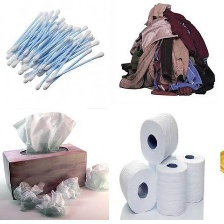tissue: (8, 108, 79, 156), (115, 157, 161, 217), (135, 107, 181, 167), (151, 156, 190, 218), (173, 148, 208, 205), (9, 177, 48, 214), (30, 187, 70, 220), (81, 159, 109, 193), (51, 173, 83, 202)
